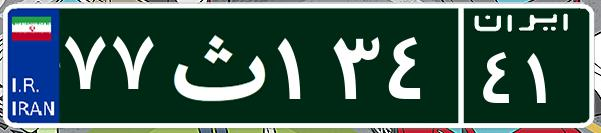1: (273, 28, 330, 110), (525, 38, 570, 115)
3: (330, 28, 385, 110)
4: (385, 28, 445, 110), (475, 38, 525, 113)
7: (57, 26, 110, 107), (110, 28, 158, 105)
ث: (158, 15, 273, 115)
